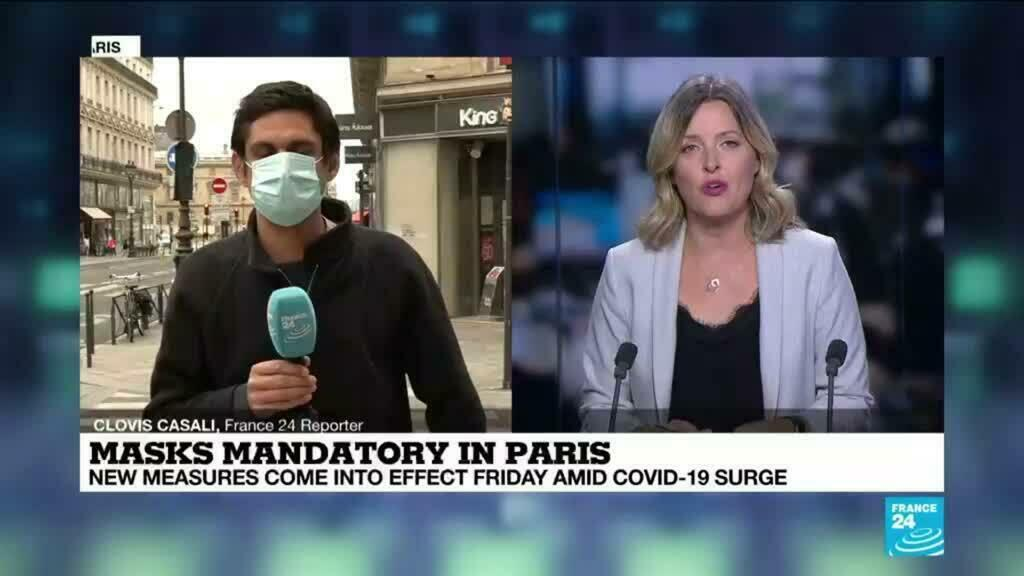with_mask: (248, 125, 328, 223)
without_mask: (677, 123, 752, 219)
